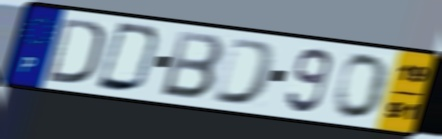9: (286, 47, 334, 114)
B: (158, 28, 226, 102)
D: (94, 20, 164, 95), (210, 36, 280, 108), (45, 15, 107, 87)
O: (332, 52, 393, 122)
